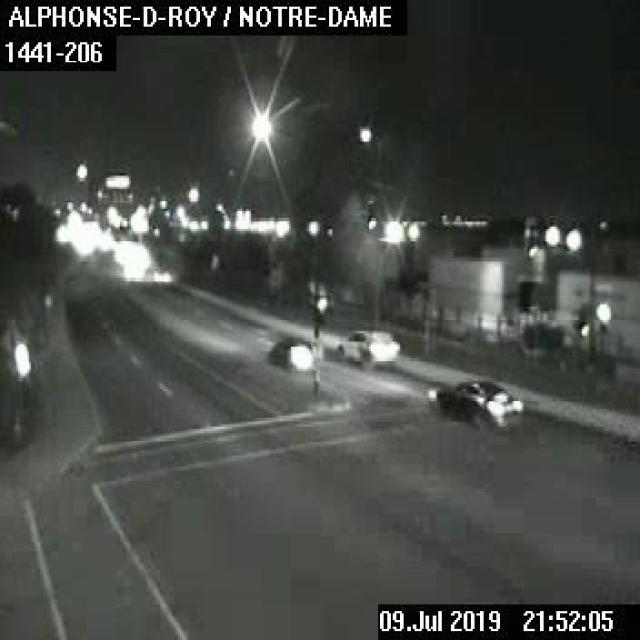vehicle: (424, 373, 522, 427), (335, 324, 400, 369), (265, 334, 311, 374)
